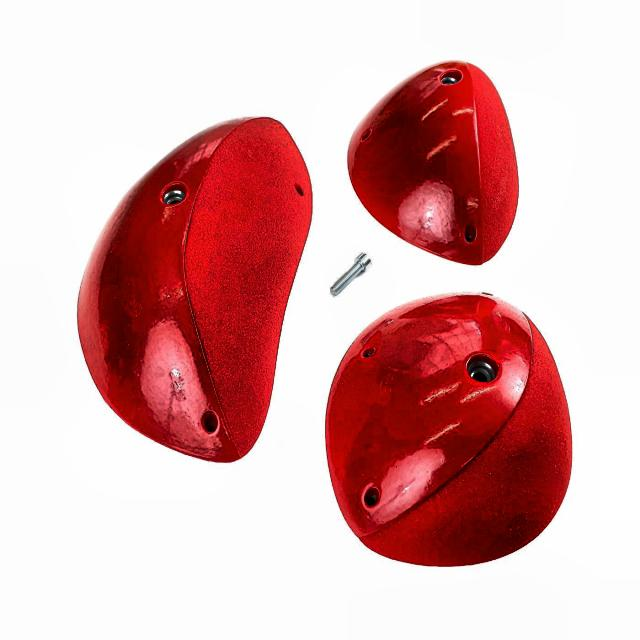Hold: (67, 116, 319, 473), (322, 294, 573, 570), (343, 60, 527, 268)
